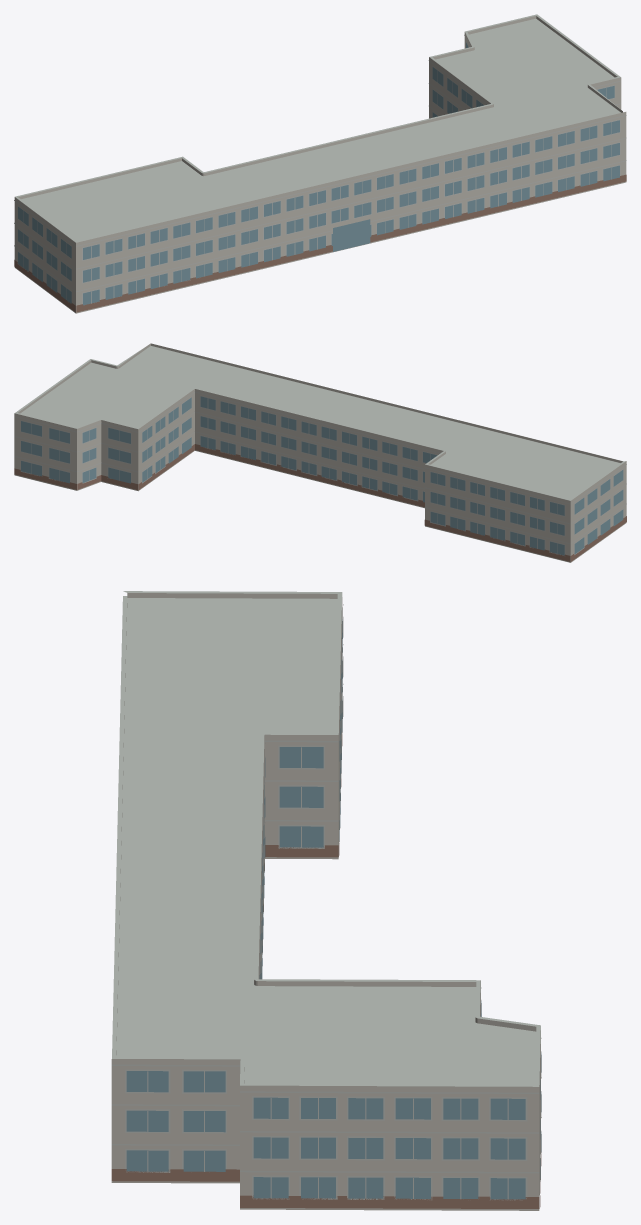
The model's file is public-f51b93a5-7d7d-4010-bfca-6e5a1f8683dd.glb.
3 renders of one model, top to bottom at view 1: azimuth 30°, elevation 25°; view 2: azimuth 150°, elevation 25°; view 3: azimuth 270°, elevation 25°, orthographic. The views are drawn at different scales.
Parts seen in each view (by area): view 1: public-f51b93a5-7d7d-4010-bfca-6e5a1f8683dd; view 2: public-f51b93a5-7d7d-4010-bfca-6e5a1f8683dd; view 3: public-f51b93a5-7d7d-4010-bfca-6e5a1f8683dd.
Boxes of the visible parts, x1,y1,x2,y2 form: public-f51b93a5-7d7d-4010-bfca-6e5a1f8683dd: [14, 14, 626, 313]; public-f51b93a5-7d7d-4010-bfca-6e5a1f8683dd: [14, 343, 626, 562]; public-f51b93a5-7d7d-4010-bfca-6e5a1f8683dd: [111, 591, 541, 1210].
Bounding box in the file's own units: 78.56 × 9.15 × 29.61.
